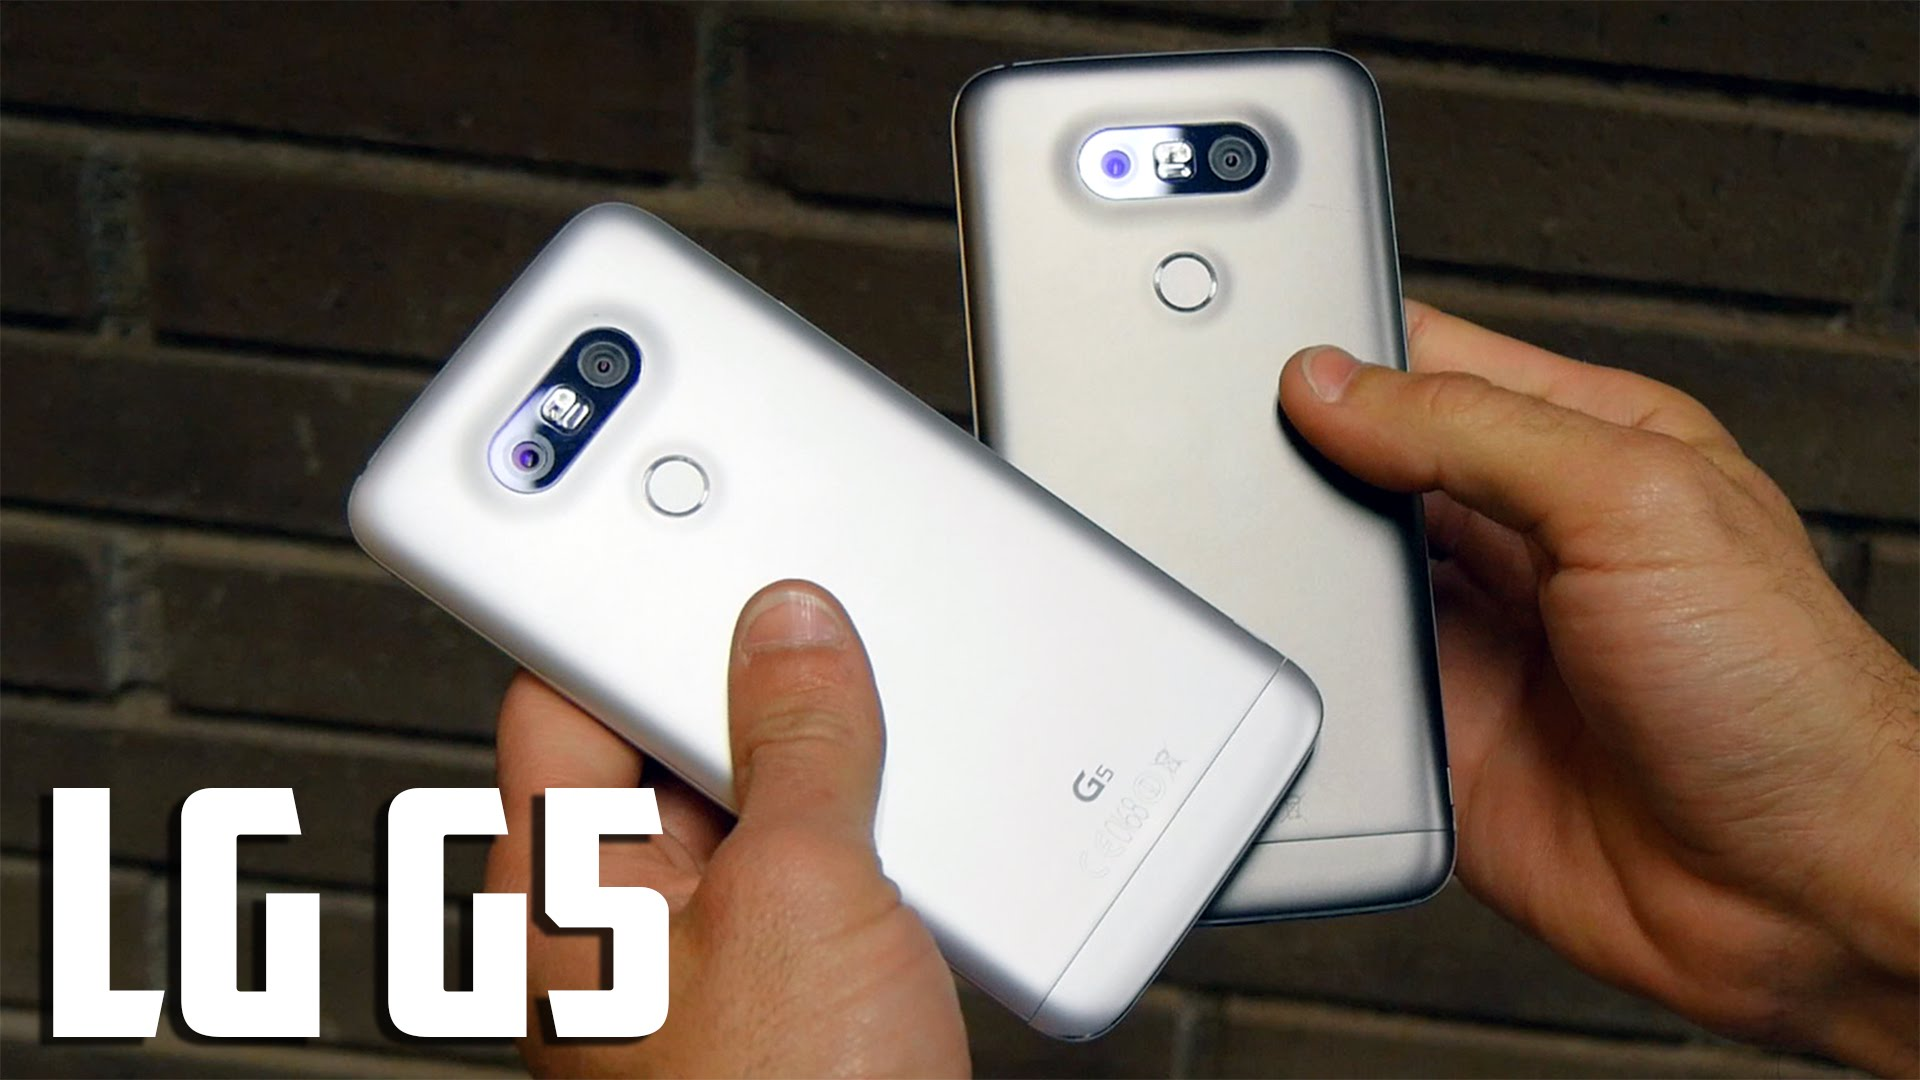smartphone: (343, 200, 1325, 1044), (951, 46, 1462, 928)
